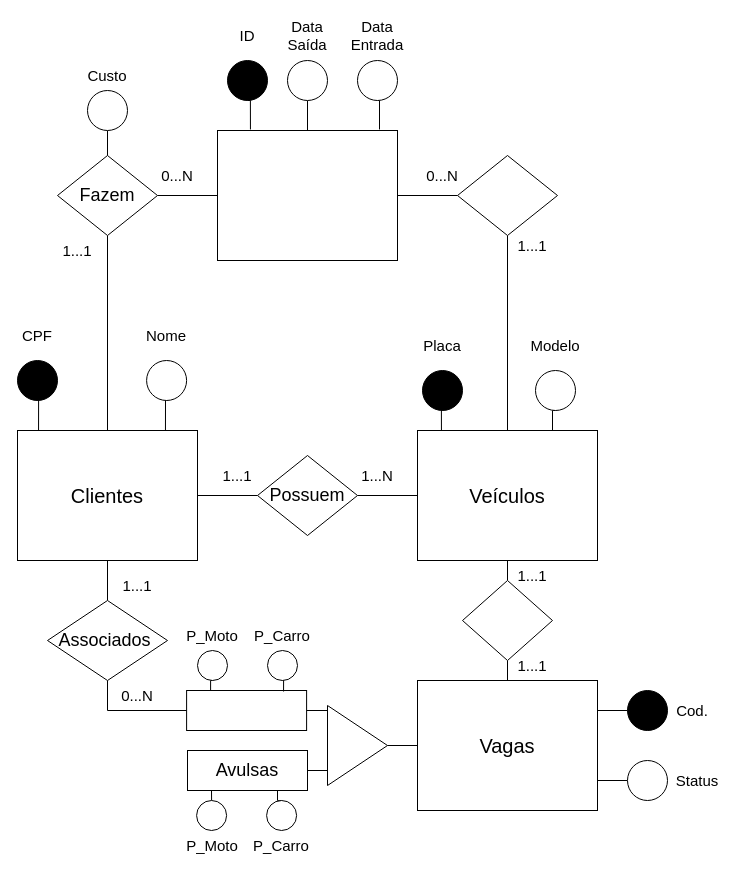
Image size: 736x877. Some labels were removed from this diagram. The shapes that lost their labels are listed below. From the top down, each one's centre as x and y in pixels, then its label:
At [307,195]: "Estacionagens".
At [507,195]: "Têm".
At [507,620]: "Ocupam".
At [246,710]: "Mensais".
